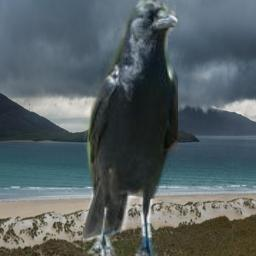Crow: (83, 0, 178, 256)
